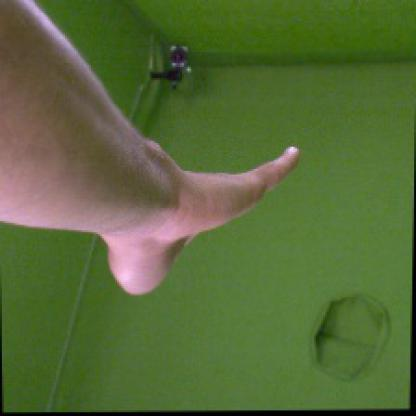Hand: (107, 146, 300, 298)
